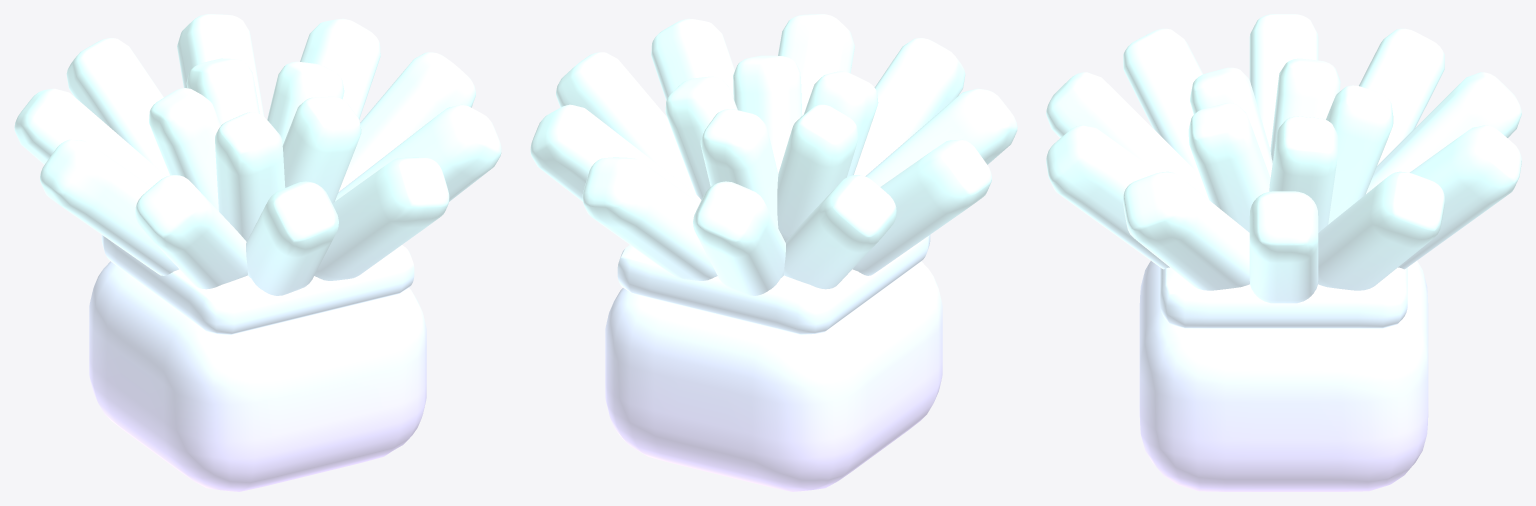
The model's file is Block_Anemone_v0926.glb.
The picture shows the model from 3 angles, left to right: view 1: azimuth 30°, elevation 25°; view 2: azimuth 150°, elevation 25°; view 3: azimuth 270°, elevation 25°; orthographic projection. The views are drawn at different scales.
Bounding box in the file's own units: 1.44 × 1.17 × 1.38.
